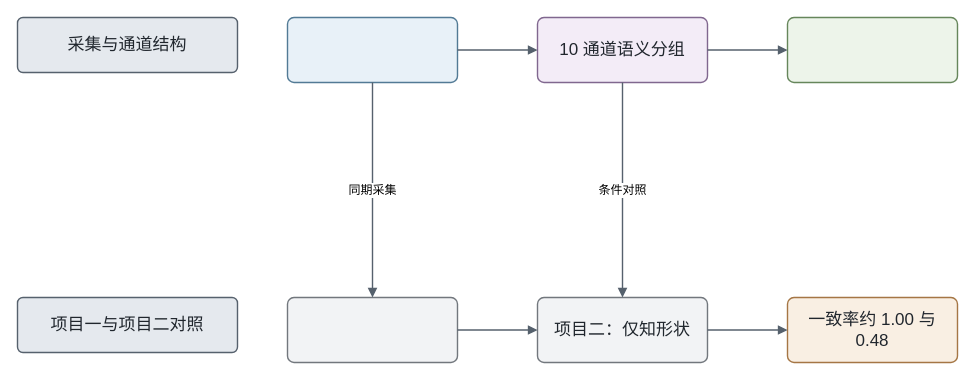
Image size: 976x381. Some labels were removed from this diagram. The shapes that lost their labels are listed below. From the top down, each one's centre as x and y in pixels, then its label:
At [372,49]: "F3/Fz/F4 三导采集".
At [872,49]: "原始信号、设备滤波、心电、事件、时间戳".
At [372,329]: "项目一：位置已知".
